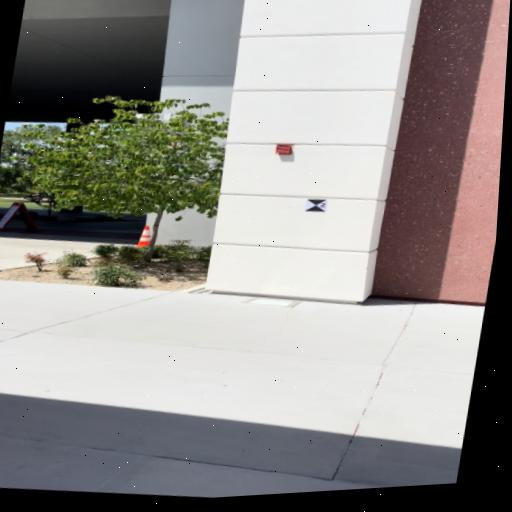target2: (304, 198, 328, 213)
